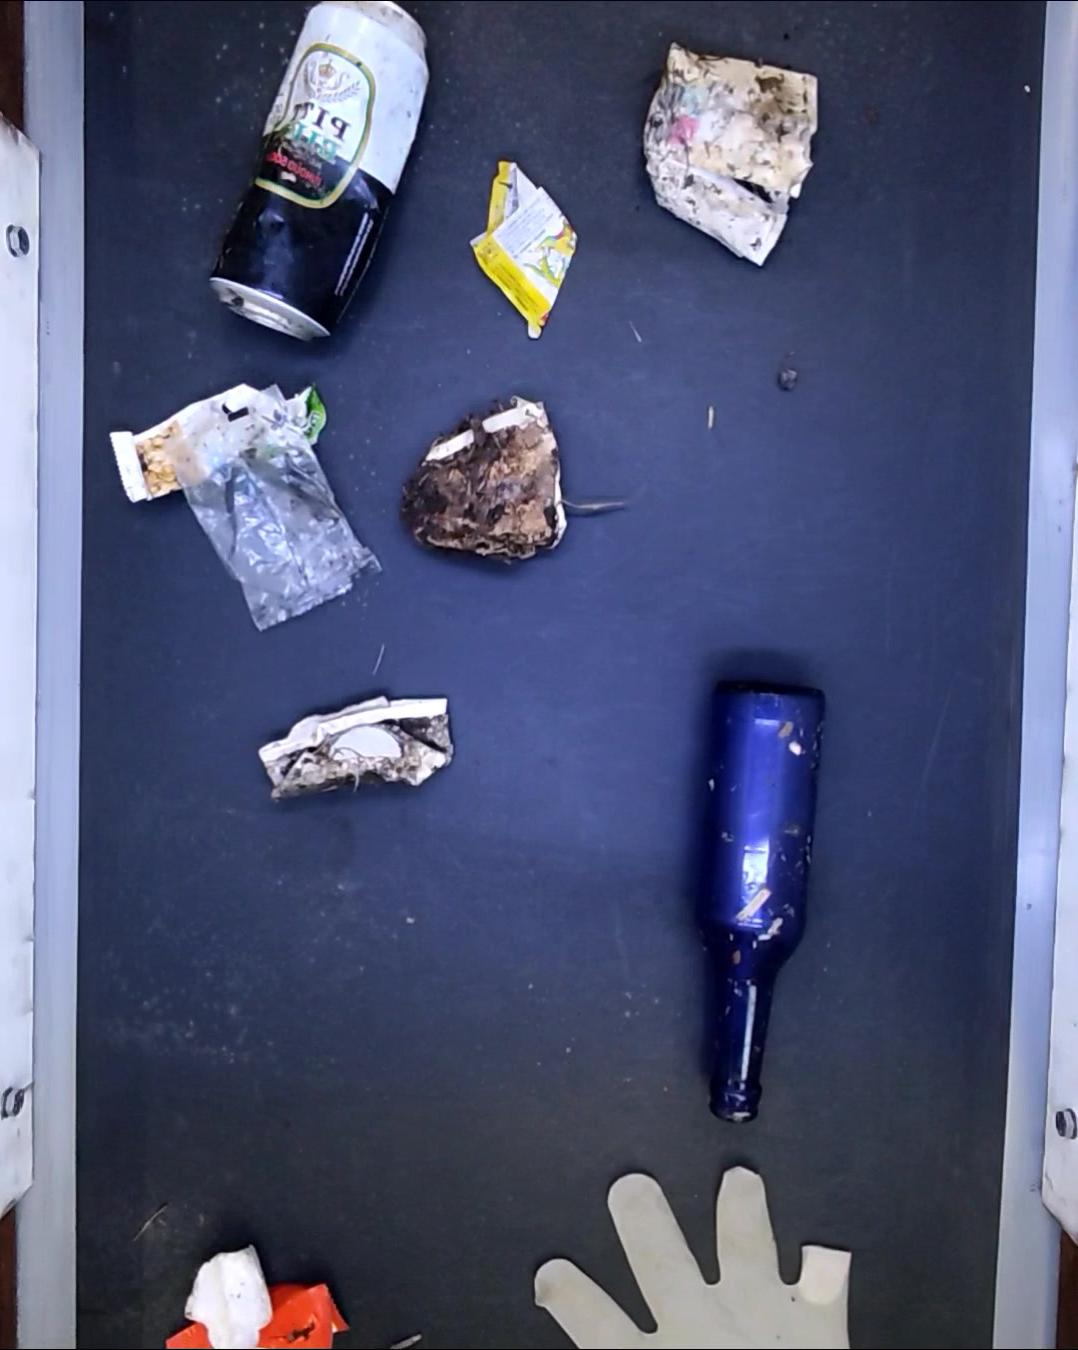Drankblikjes: (204, 0, 431, 353)
Plastic folies of stukken daarvan 2.5- 50 cm: (175, 413, 380, 634)
Snoep snack en chips verpakkingen: (108, 378, 319, 507), (473, 160, 577, 334), (165, 1282, 350, 1350)
